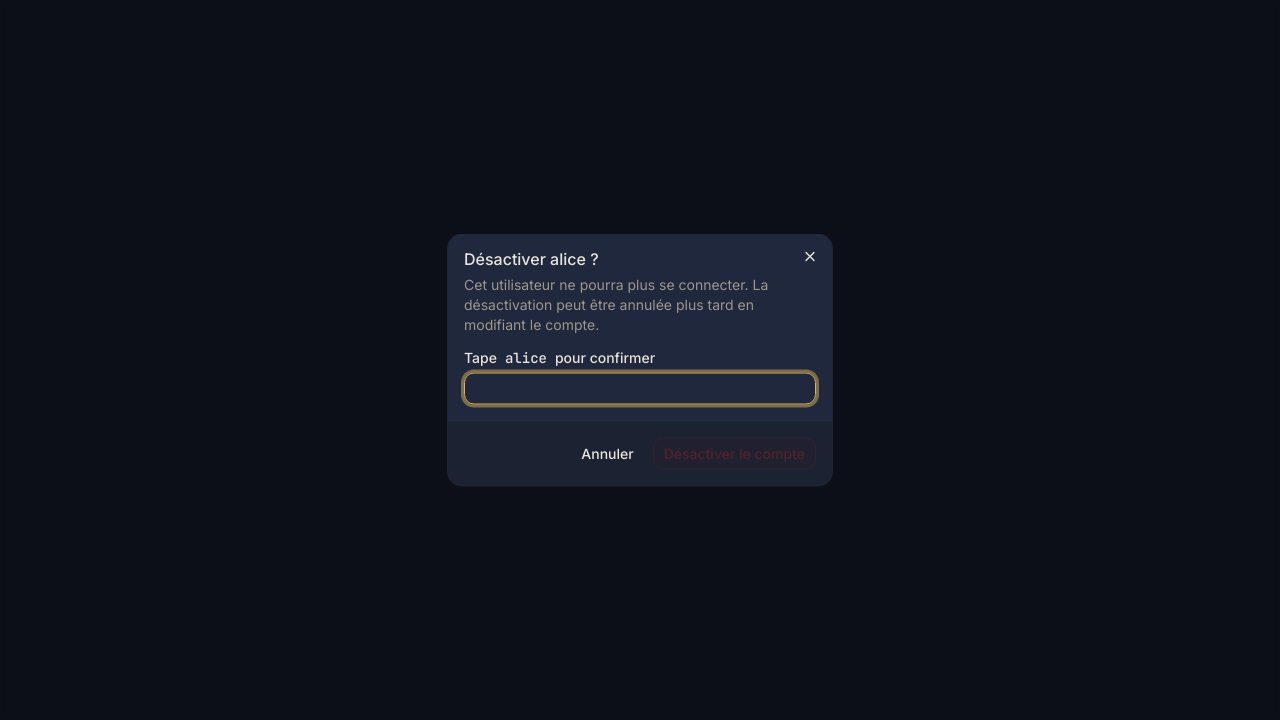
Scenario: <UserDeactivateConfirm> › the destructive button is disabled until the typed value matches the username exactly
Check: the button "Désactiver le compte" is disabled, box [653,438,816,470]
Type "ali" into the field labelled "Tape alice pour confirmer" at (640, 388), box [464,372,816,404]
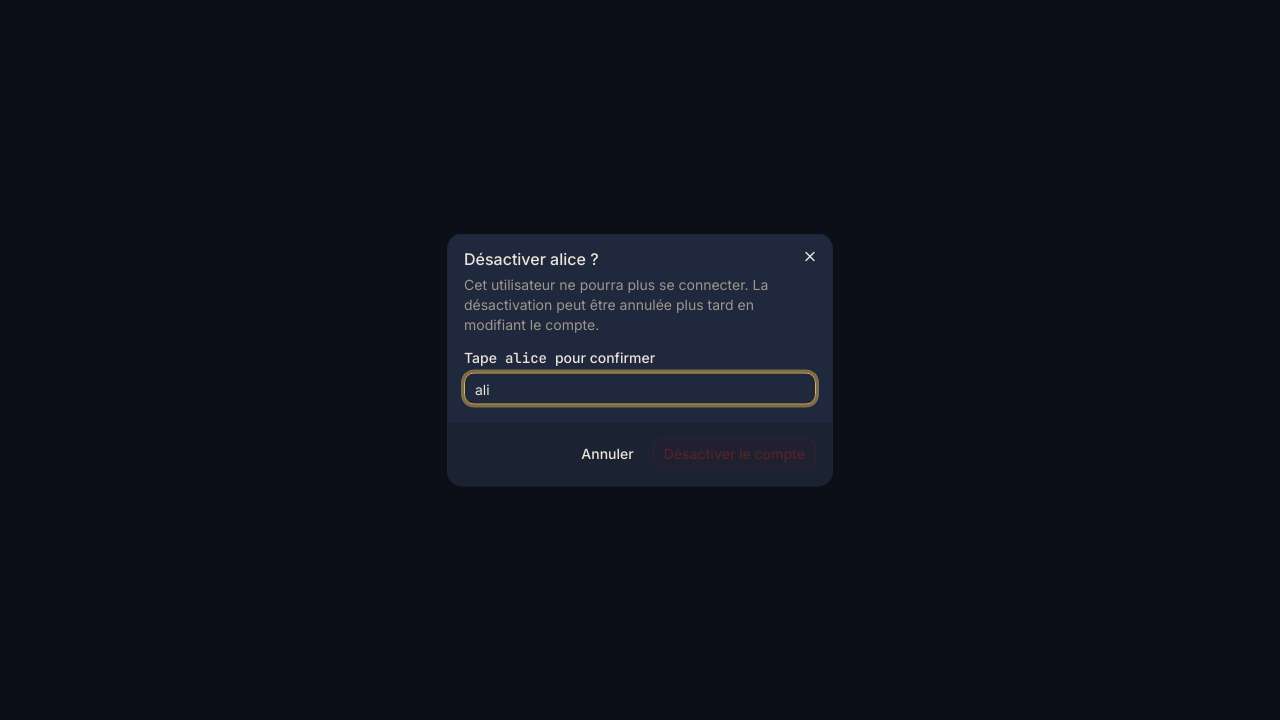
Check: the button "Désactiver le compte" is disabled, box [653,438,816,470]
Type "ce" into the field labelled "Tape alice pour confirmer" at (640, 388), box [464,372,816,404]
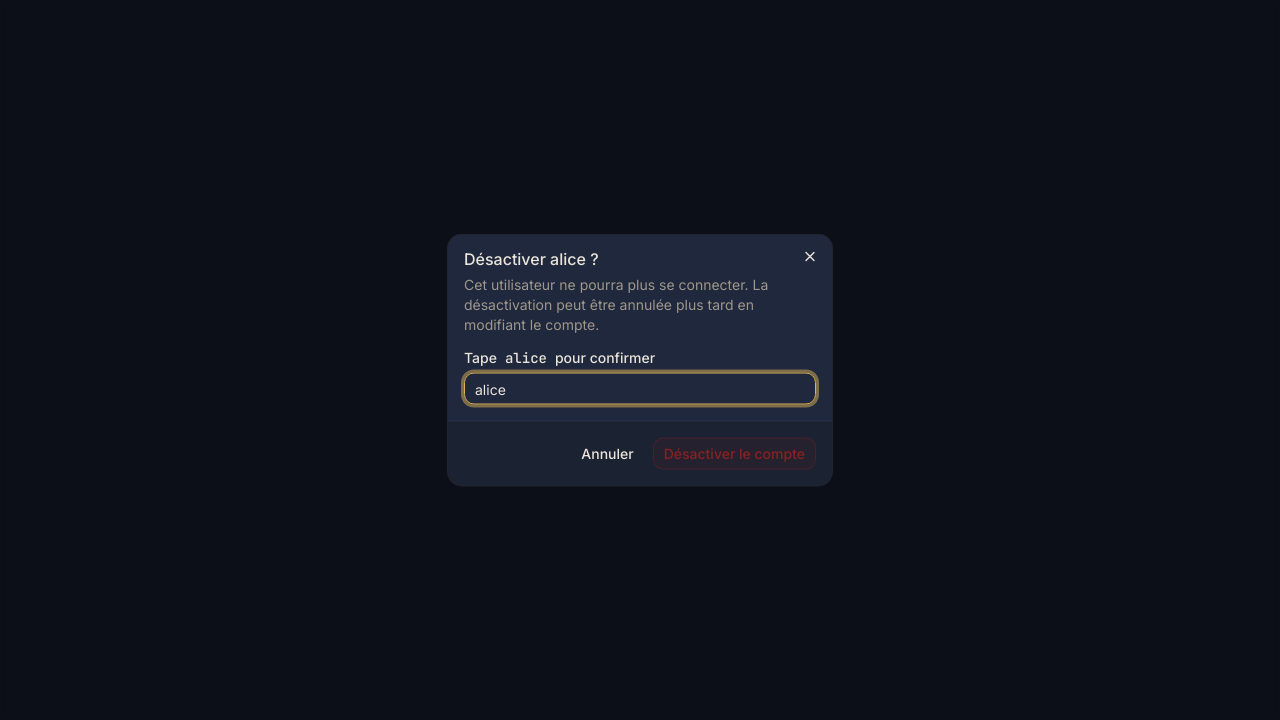
Check: the button "Désactiver le compte" is enabled, box [653,438,816,470]
